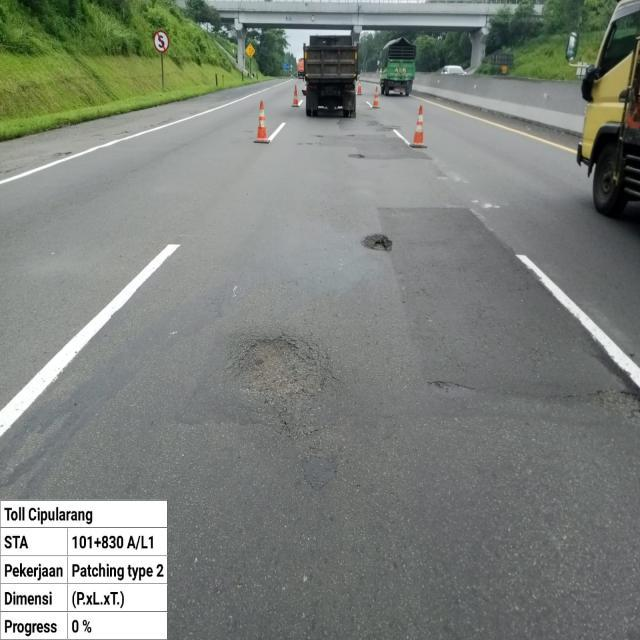Buraco: (231, 336, 329, 398), (360, 232, 395, 254), (346, 152, 366, 160)
